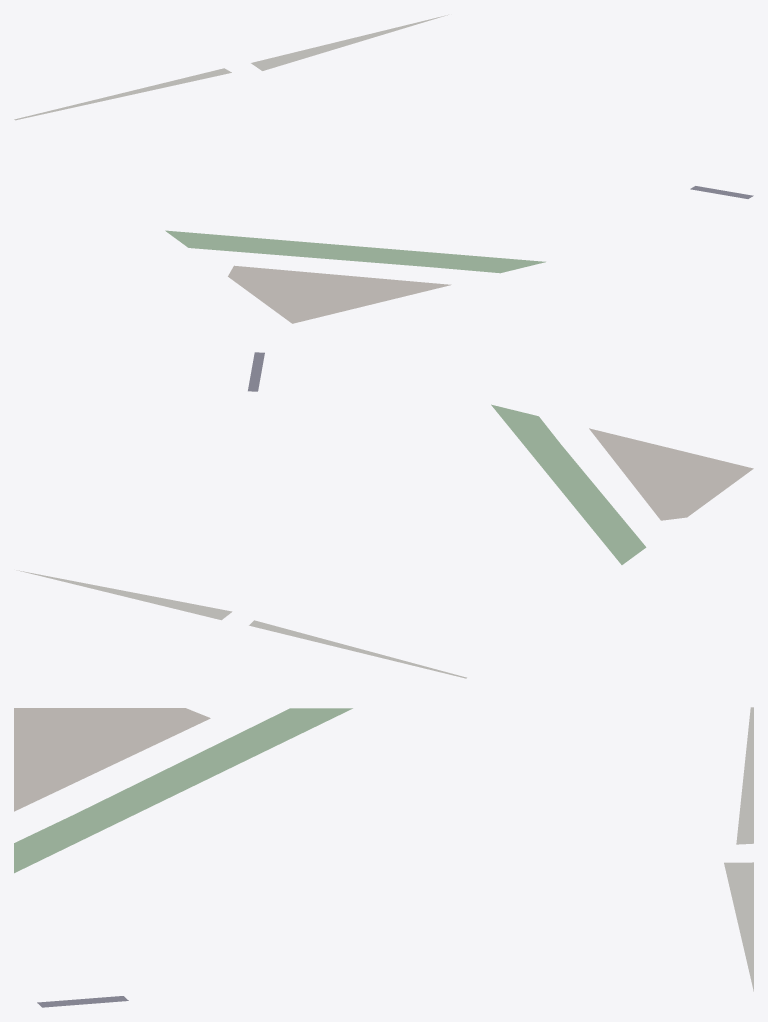
Rendered from 142_106_mid.glb.
3 renders of one model, top to bottom at view 1: azimuth 30°, elevation 25°; view 2: azimuth 150°, elevation 25°; view 3: azimuth 270°, elevation 25°, orthographic. The views are drawn at different scales.
Size of the model in its own units: 490 by 7.5 by 500.
